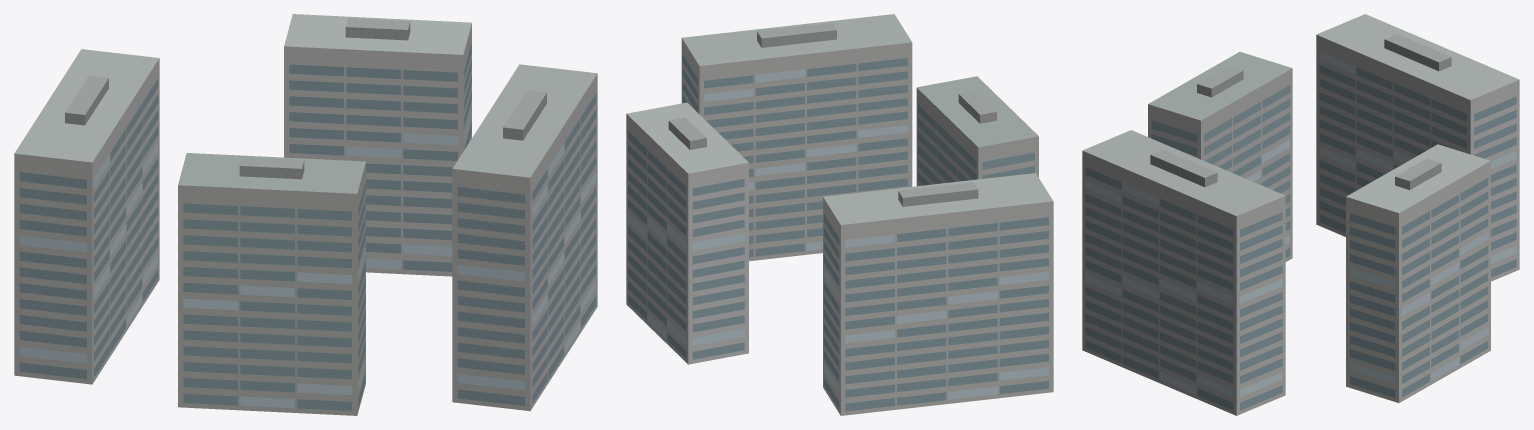
File: apt-a15102202.glb
3 views of the same model, side by side, from view 1: azimuth 30°, elevation 25°; view 2: azimuth 150°, elevation 25°; view 3: azimuth 270°, elevation 25° (orthographic). The views are drawn at different scales.
Parts seen in each view (by area): view 1: apt-a15102202; view 2: apt-a15102202; view 3: apt-a15102202.
Boxes of the visible parts, x1,y1,x2,y2 form: apt-a15102202: [14, 14, 597, 415]; apt-a15102202: [626, 14, 1053, 415]; apt-a15102202: [1082, 14, 1519, 415].
Size of the model in its own units: 89.14 by 41 by 77.73.
